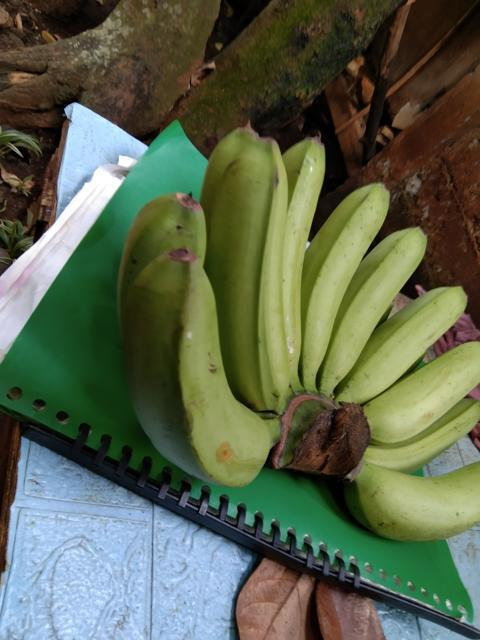freshunripe: (205, 131, 294, 401), (293, 173, 403, 379), (261, 128, 334, 389), (320, 220, 434, 387), (334, 281, 468, 406), (344, 455, 479, 551), (355, 335, 479, 428)
unripe: (113, 245, 282, 498), (115, 187, 214, 269)
